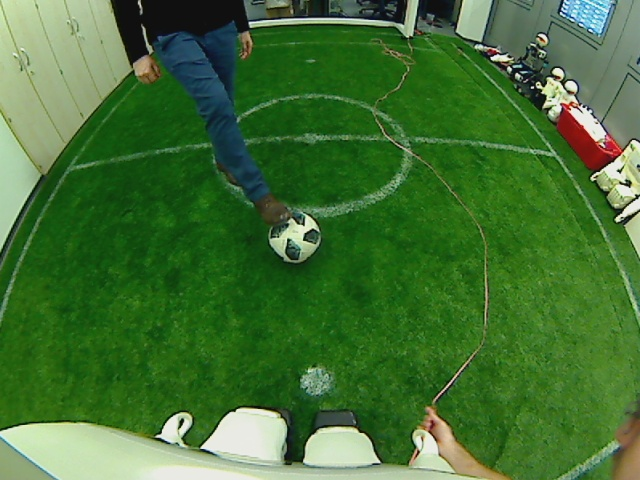ball: (264, 208, 323, 264)
